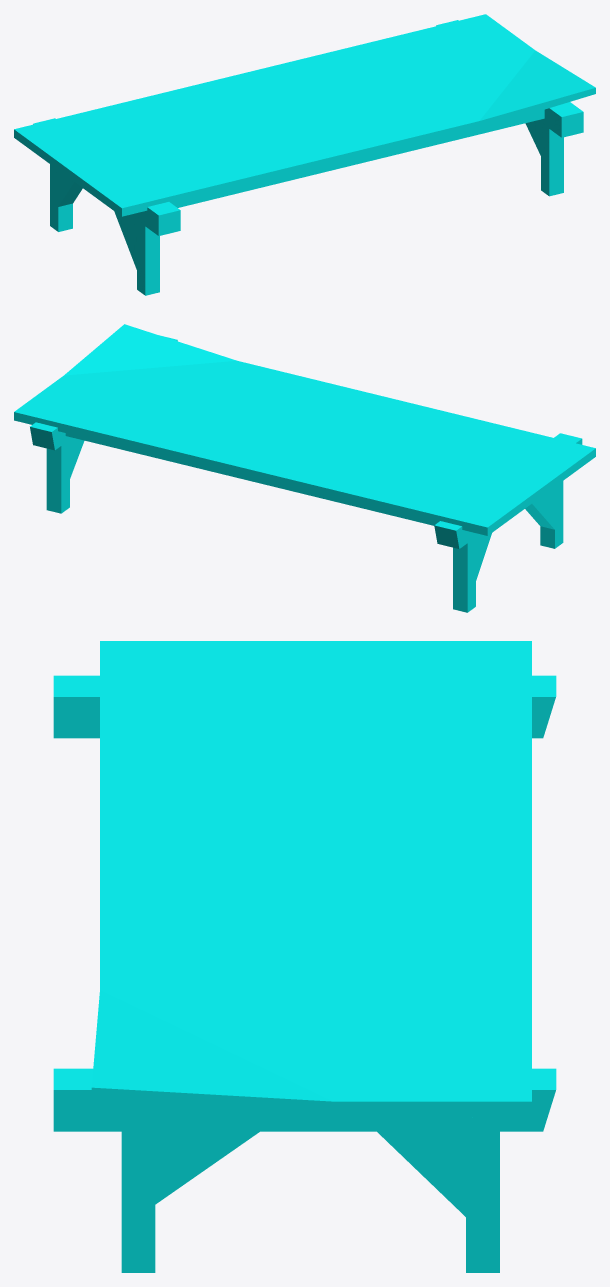
The model's file is dock_collision.fbx.
3 renders of one model, top to bottom at view 1: azimuth 30°, elevation 25°; view 2: azimuth 150°, elevation 25°; view 3: azimuth 270°, elevation 25°, orthographic. The views are drawn at different scales.
Parts seen in each view (by area): view 1: SM_Prop_Stage_Wooden_01_Collision; view 2: SM_Prop_Stage_Wooden_01_Collision; view 3: SM_Prop_Stage_Wooden_01_Collision.
Part boxes in pixels (x1,y1,x2,y2): SM_Prop_Stage_Wooden_01_Collision: (14, 14, 595, 295); SM_Prop_Stage_Wooden_01_Collision: (14, 324, 595, 612); SM_Prop_Stage_Wooden_01_Collision: (53, 641, 556, 1272).
Bounding box in the file's own units: 750 × 159 × 346.
